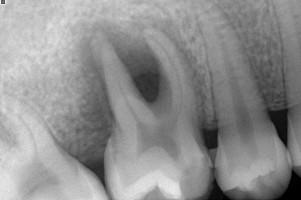Dental Caries: (73, 18, 203, 147)
